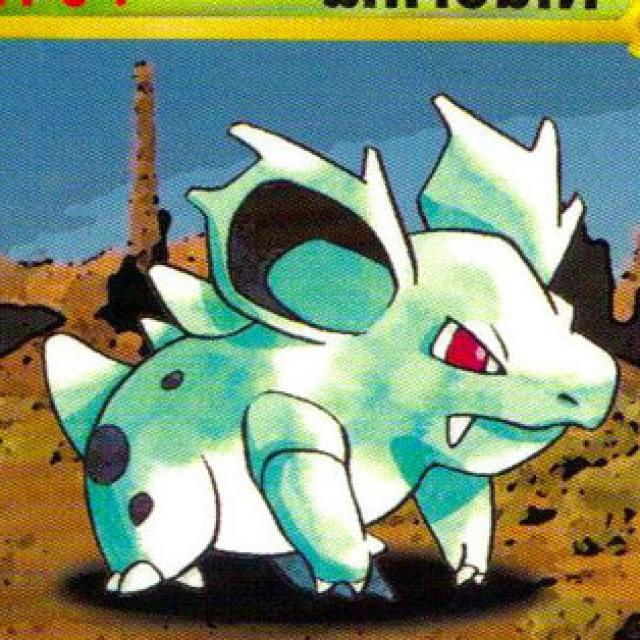Nidorina: (75, 110, 619, 620)
